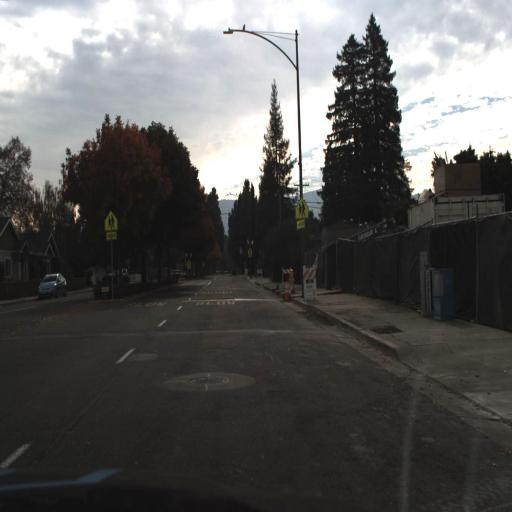car: (36, 270, 68, 298), (38, 270, 68, 297)
